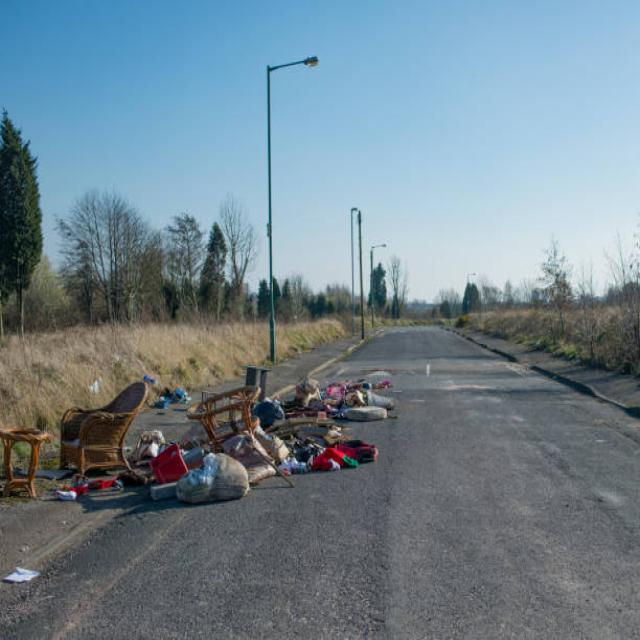trash: (138, 369, 377, 505)
